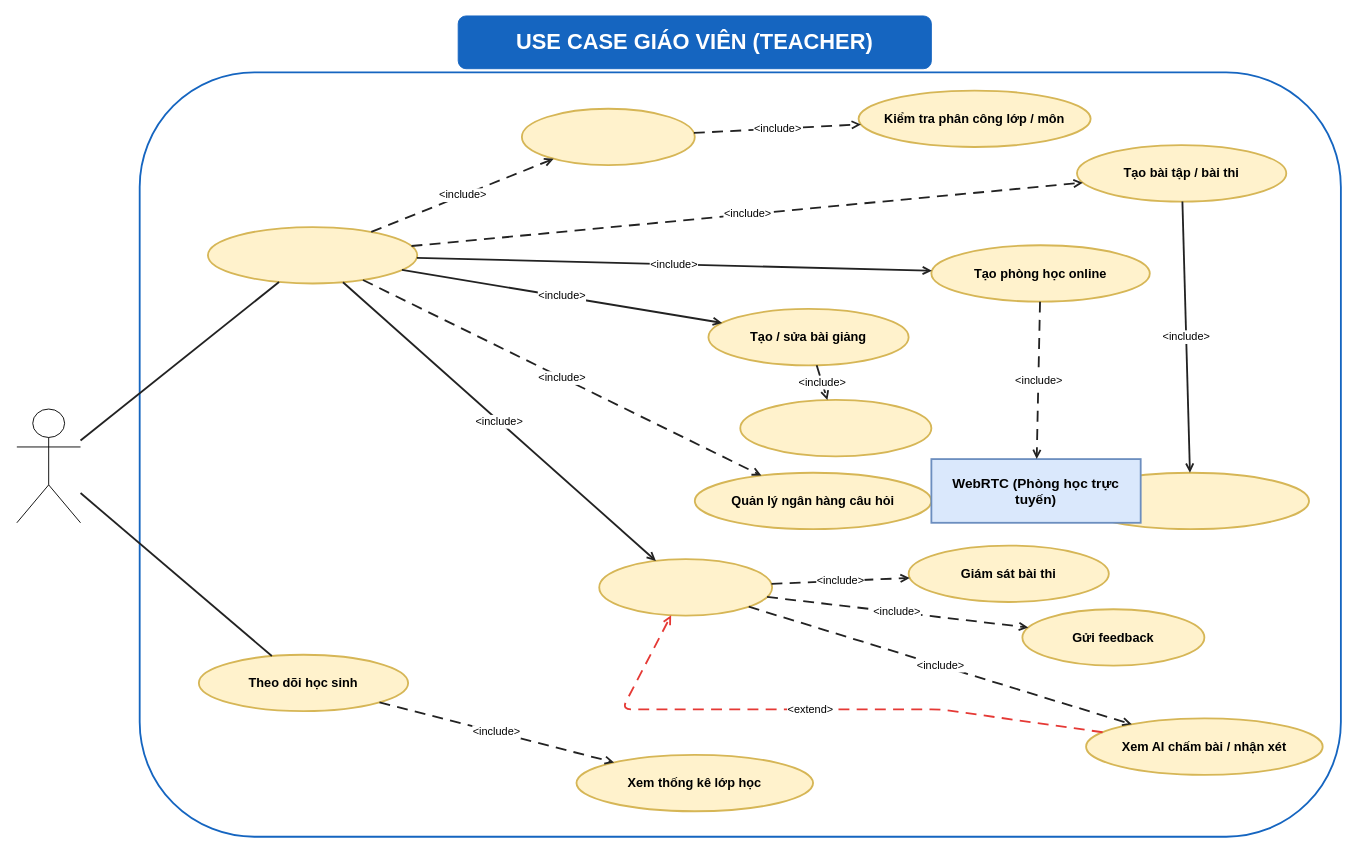
Image size: 1358x854. Some labels were removed from this diagram. Here are the shapes that lost their labels. From the top down, the box of each, then its label:
(521, 107, 695, 166): Đăng nhập
(207, 226, 418, 284): Quản lý giảng dạy
(739, 399, 932, 457): Upload tài liệu
(16, 408, 81, 523): Giáo viên
(1071, 471, 1309, 530): Thiết lập thời gian / thang điểm
(598, 558, 773, 616): Chấm bài
